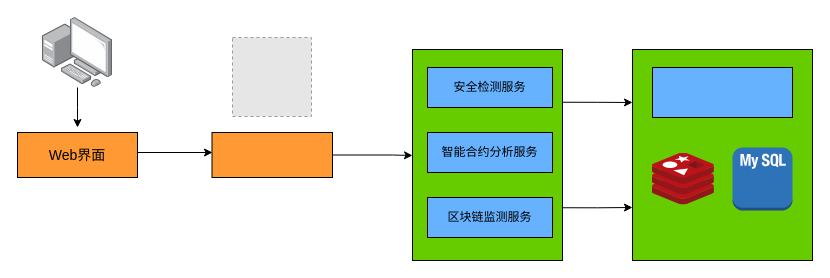
Some shapes in this 830 by 278 pixel diagram are drawn without their labels. Grey dashed boxes stand in for pictures. The centre of each missing label's shape, as x and y in pixels:
"Nginx服务器" goes at [271,155].
"数据层" goes at [722,92].
